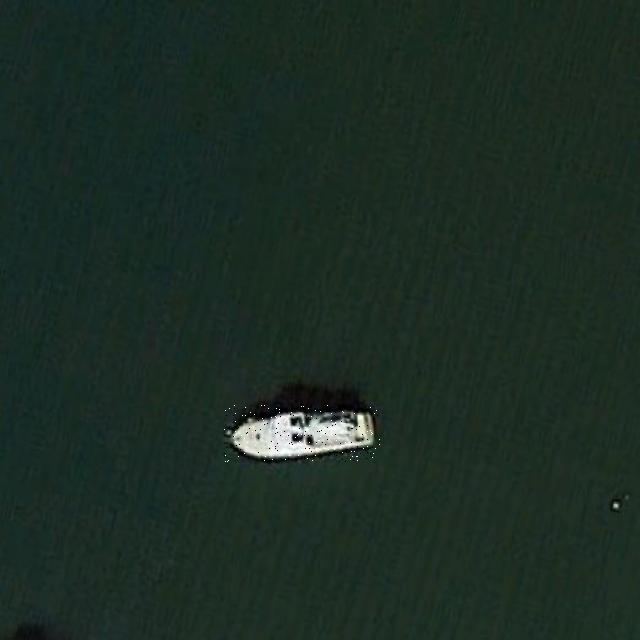boat: (224, 405, 380, 462)
